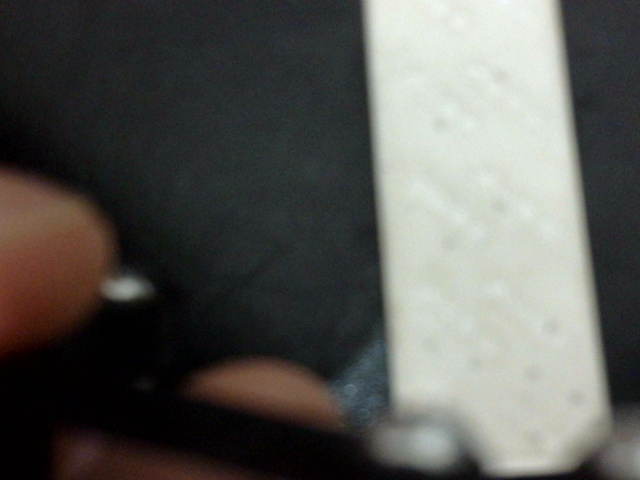eraser: (341, 7, 616, 450)
